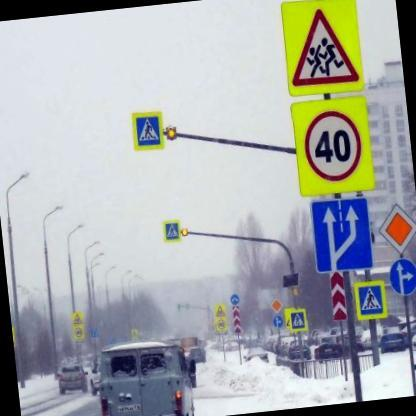road_sign: (281, 0, 365, 96), (312, 199, 372, 272), (306, 111, 362, 181), (380, 204, 416, 254), (355, 281, 386, 319), (133, 113, 163, 149), (390, 260, 416, 296), (284, 308, 308, 333), (163, 219, 180, 241), (214, 317, 228, 335), (272, 313, 284, 330), (271, 298, 283, 314), (214, 304, 227, 318), (230, 292, 240, 306)
